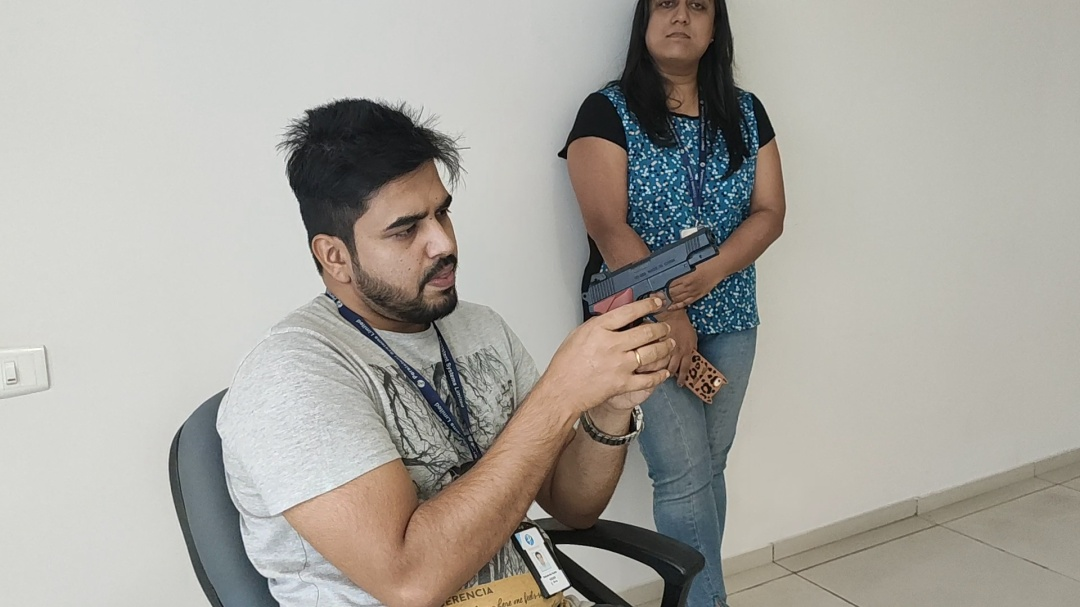gun: (385, 170, 776, 469)
